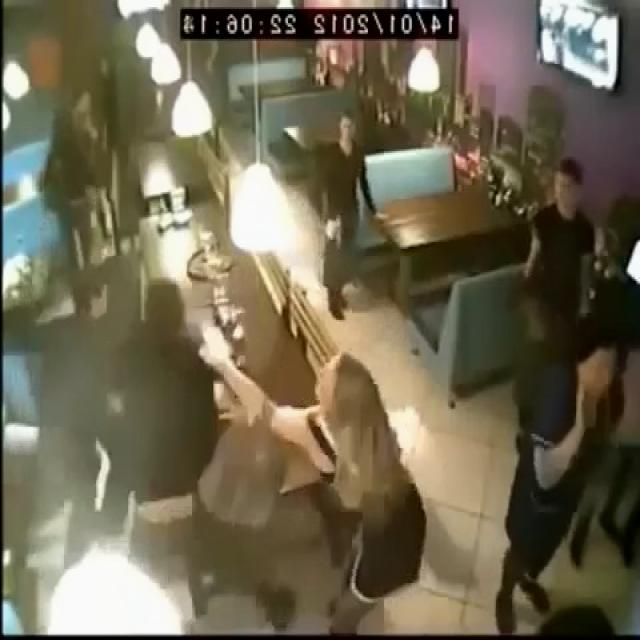fight: (80, 192, 286, 463)
